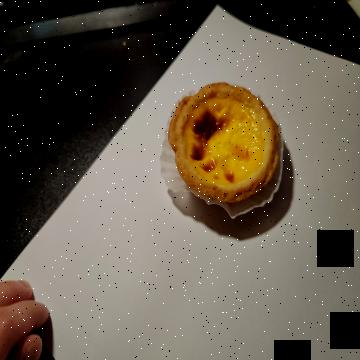EggTart: (168, 81, 282, 205)
